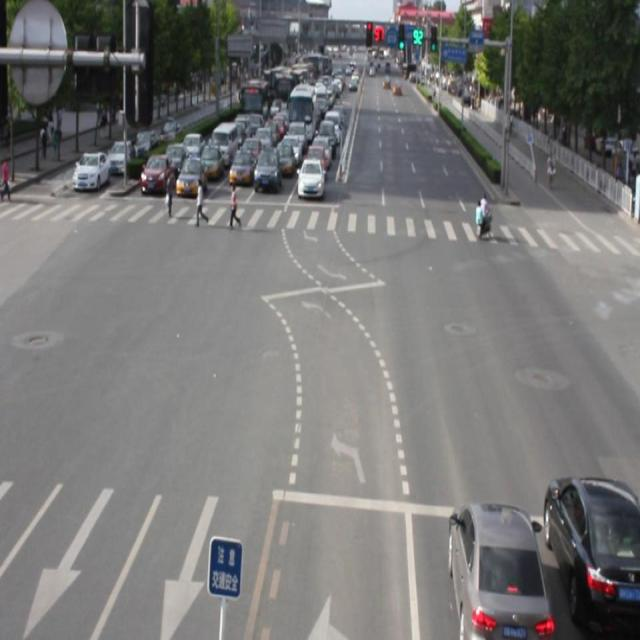car: (542, 477, 640, 631), (449, 499, 548, 640)
